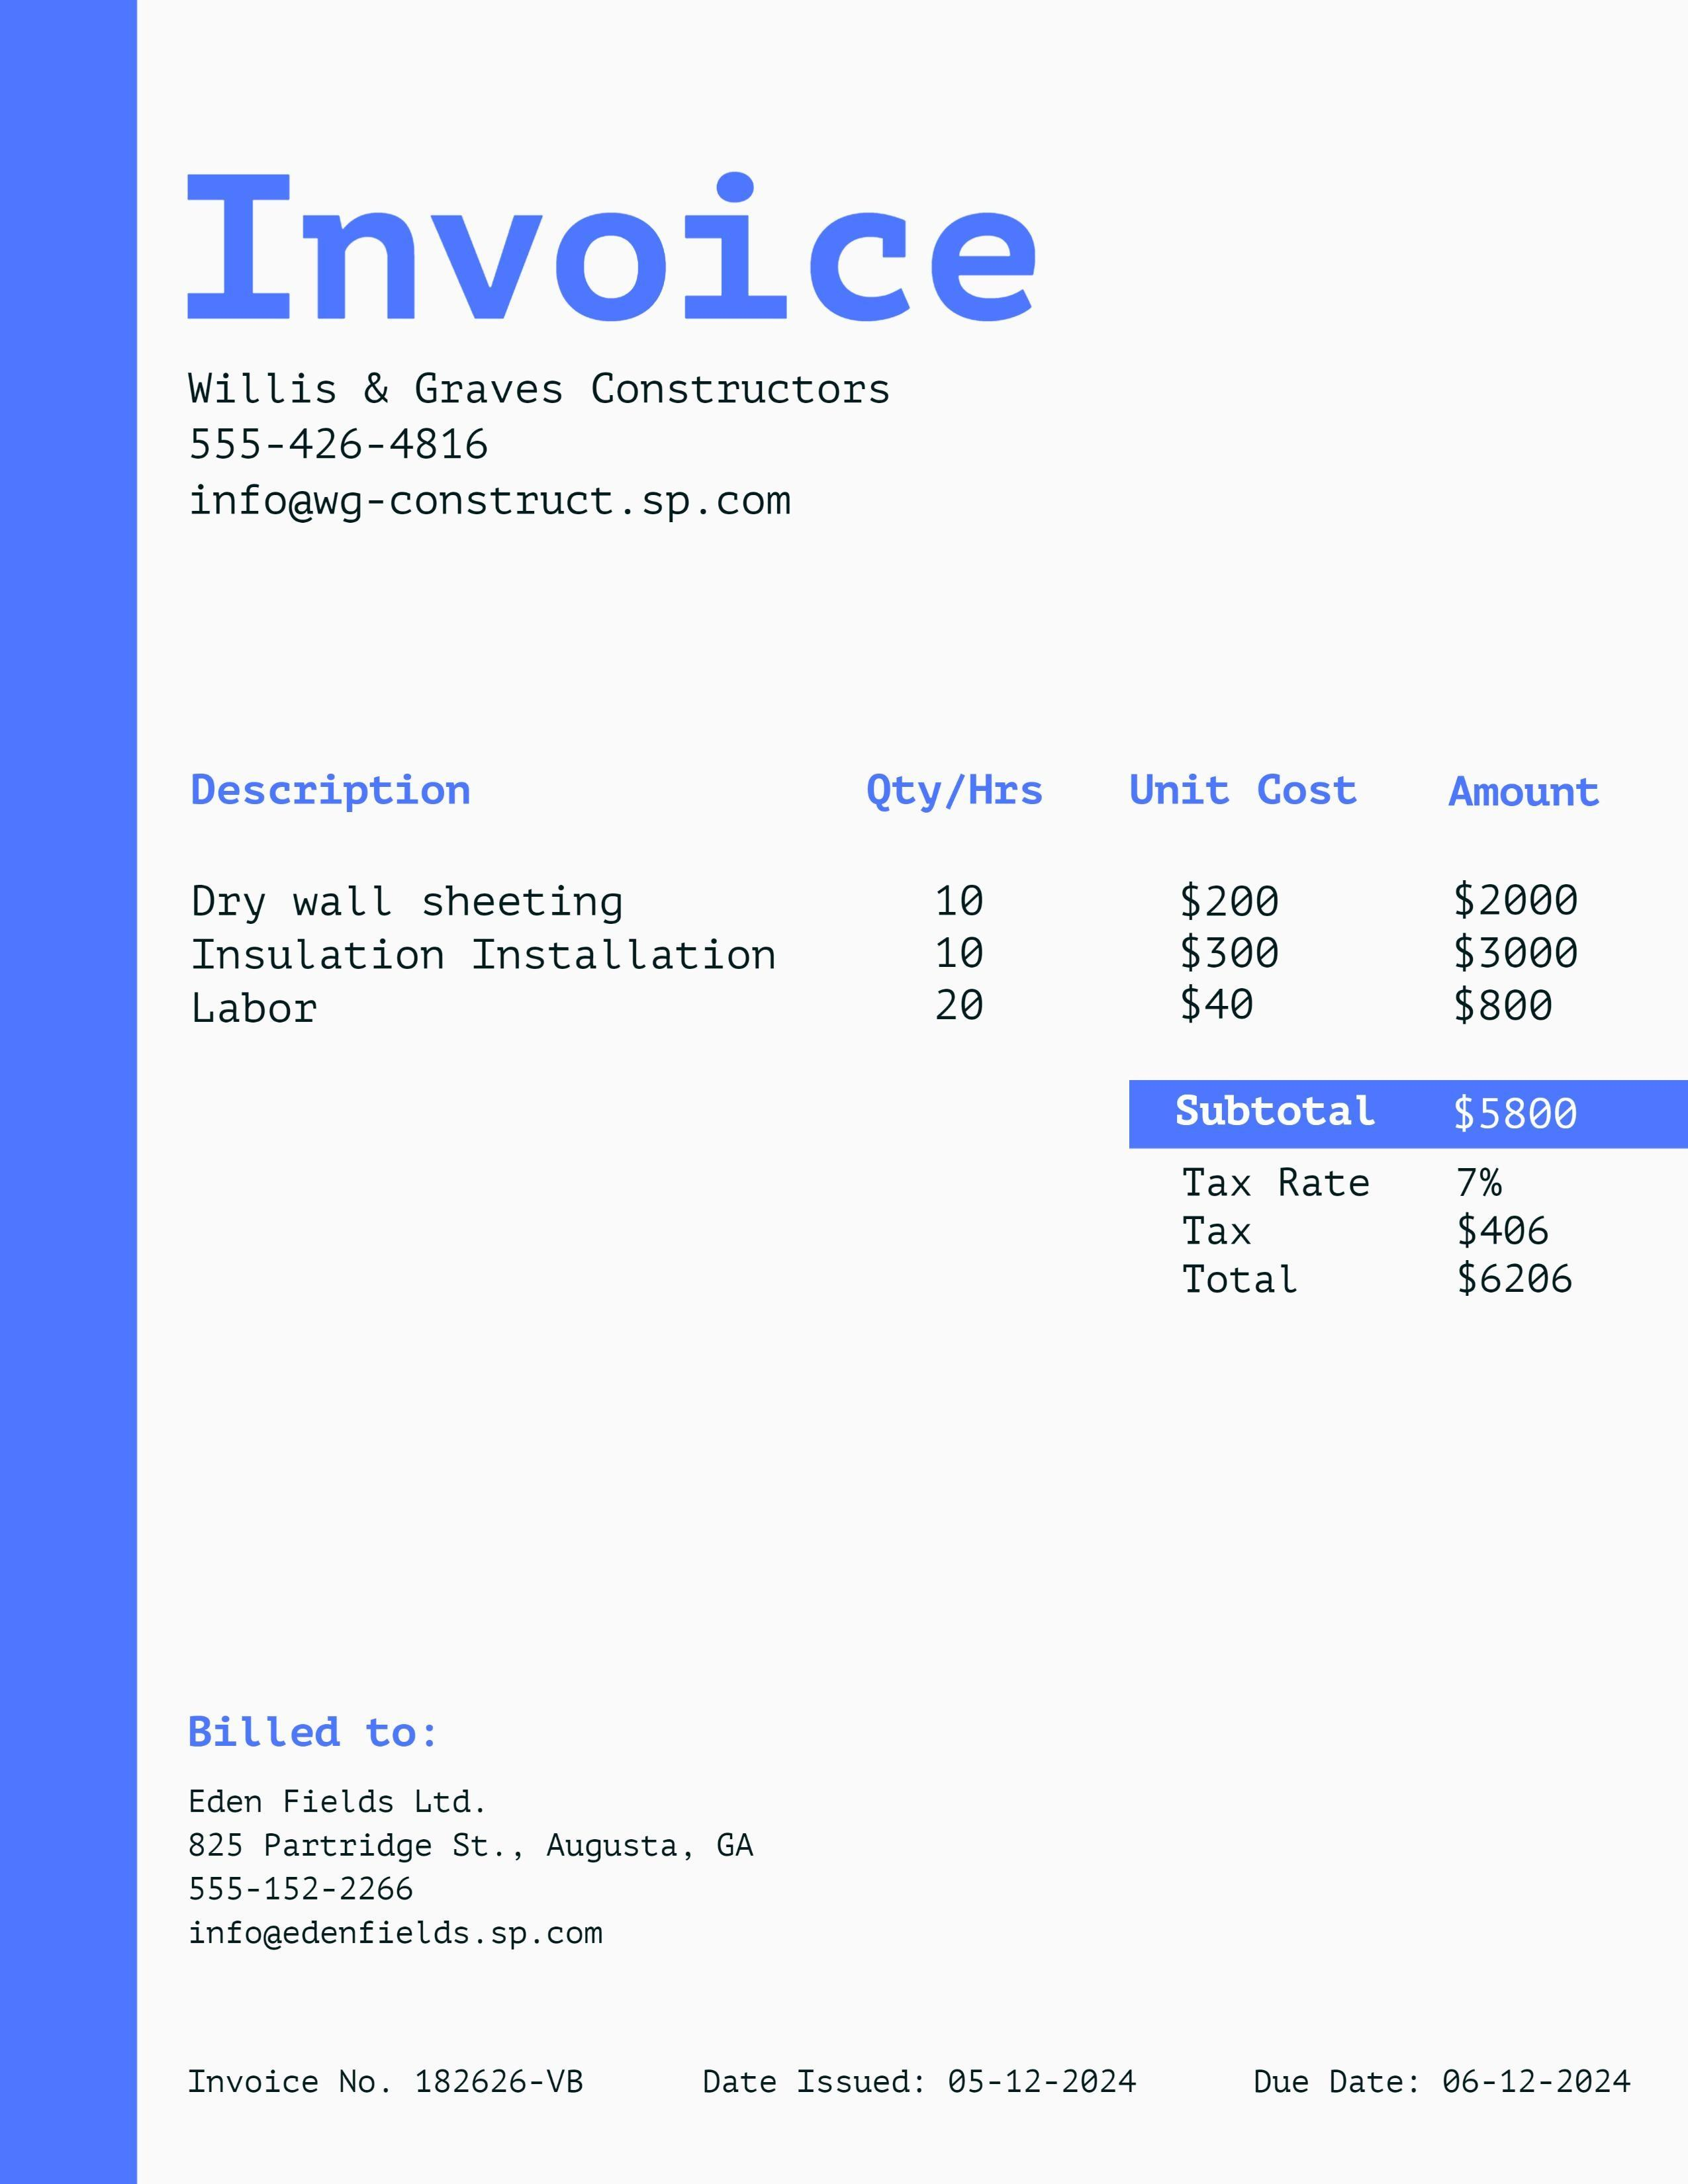ROI: (175, 764, 1618, 1046), (172, 1691, 768, 1979), (172, 354, 910, 529), (1129, 1085, 1645, 1314), (185, 2055, 1642, 2098)
